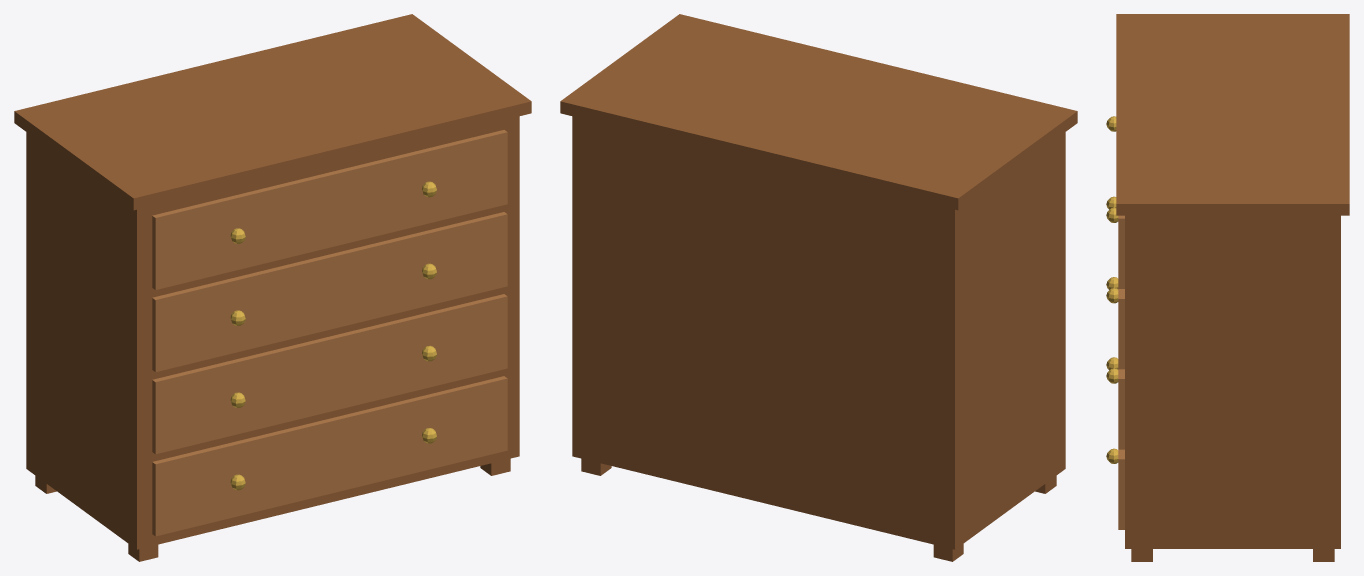
The model's file is showroom_dresser.glb.
3 views of the same model, side by side, from view 1: azimuth 30°, elevation 25°; view 2: azimuth 150°, elevation 25°; view 3: azimuth 270°, elevation 25° (orthographic). The views are drawn at different scales.
Parts seen in each view (by area): view 1: drawer_dresser_front, body_dresser_wood, top_dresser_wood, knob_dresser_knob, foot_dresser_wood; view 2: body_dresser_wood, top_dresser_wood, foot_dresser_wood; view 3: body_dresser_wood, top_dresser_wood, drawer_dresser_front, knob_dresser_knob, foot_dresser_wood.
Boxes of the visible parts, left/top/right/bottom form: drawer_dresser_front: left=152, top=130, right=507, bottom=536; body_dresser_wood: left=26, top=116, right=519, bottom=549; top_dresser_wood: left=14, top=14, right=531, bottom=210; knob_dresser_knob: left=230, top=181, right=436, bottom=490; foot_dresser_wood: left=35, top=458, right=510, bottom=561; body_dresser_wood: left=572, top=116, right=1065, bottom=549; top_dresser_wood: left=560, top=14, right=1077, bottom=210; foot_dresser_wood: left=581, top=458, right=1056, bottom=561; body_dresser_wood: left=1125, top=215, right=1340, bottom=548; top_dresser_wood: left=1116, top=14, right=1349, bottom=215; drawer_dresser_front: left=1118, top=215, right=1124, bottom=529; knob_dresser_knob: left=1106, top=116, right=1118, bottom=463; foot_dresser_wood: left=1131, top=549, right=1334, bottom=561.
Size of the model in its own units: 1.04 by 0.93 by 0.563.
